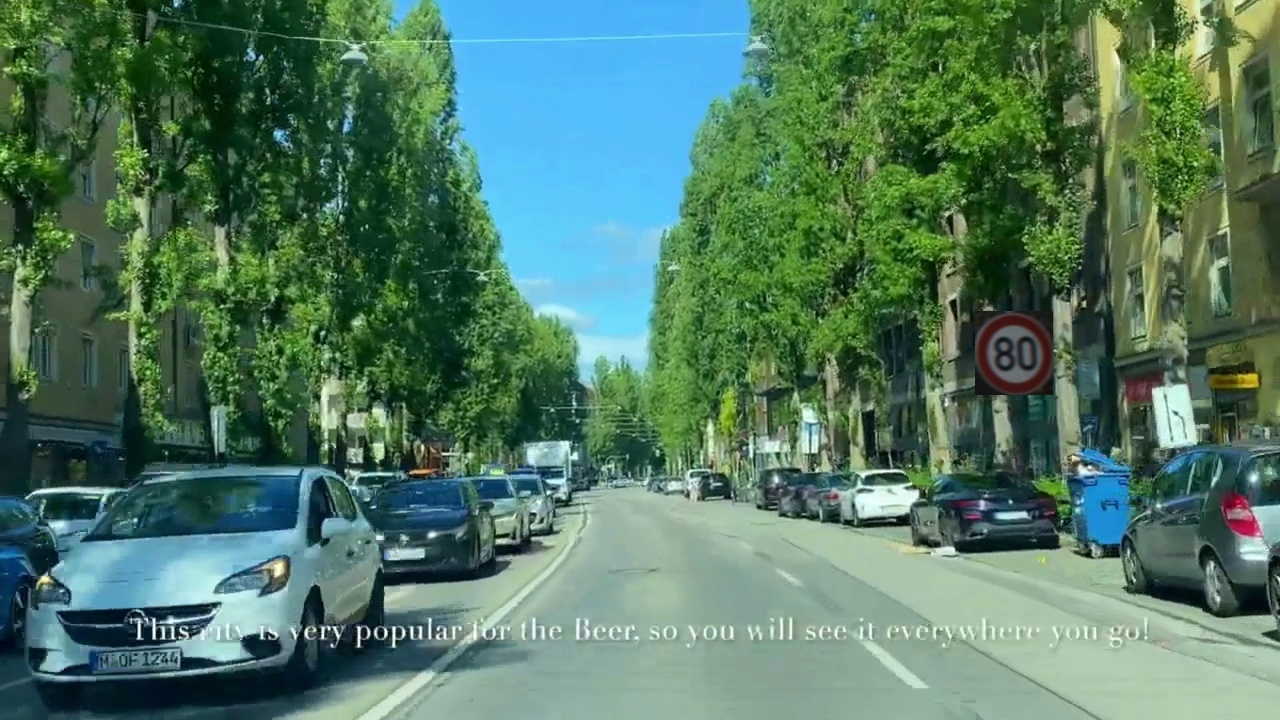Speed 80: (975, 311, 1053, 395)
